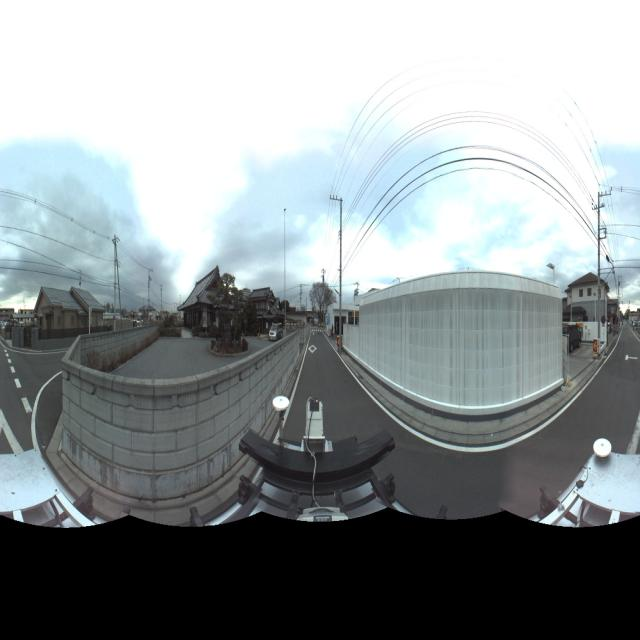b_1: (177, 257, 237, 347), (34, 277, 102, 348), (566, 261, 612, 352), (244, 281, 274, 348), (603, 286, 622, 348)
